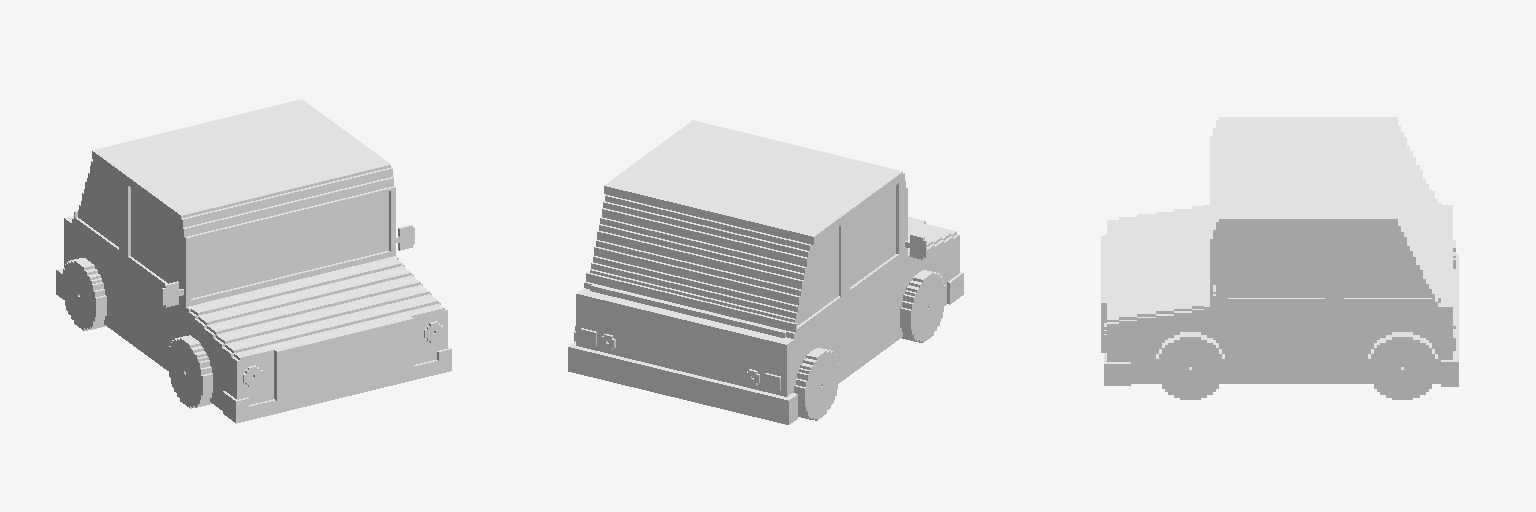
Rendered from HappyMovilCar.obj.
3 renders of one model, left to right at view 1: azimuth 30°, elevation 25°; view 2: azimuth 150°, elevation 25°; view 3: azimuth 270°, elevation 25°, orthographic.
Parts seen in each view (by area): view 1: object 1; view 2: object 1; view 3: object 1.
Part boxes in pixels (left/top/right/bottom): object 1: left=56, top=99, right=451, bottom=423; object 1: left=568, top=120, right=963, bottom=424; object 1: left=1101, top=117, right=1458, bottom=399.
Bounding box in the file's own units: 9.6 × 6.4 × 11.8.